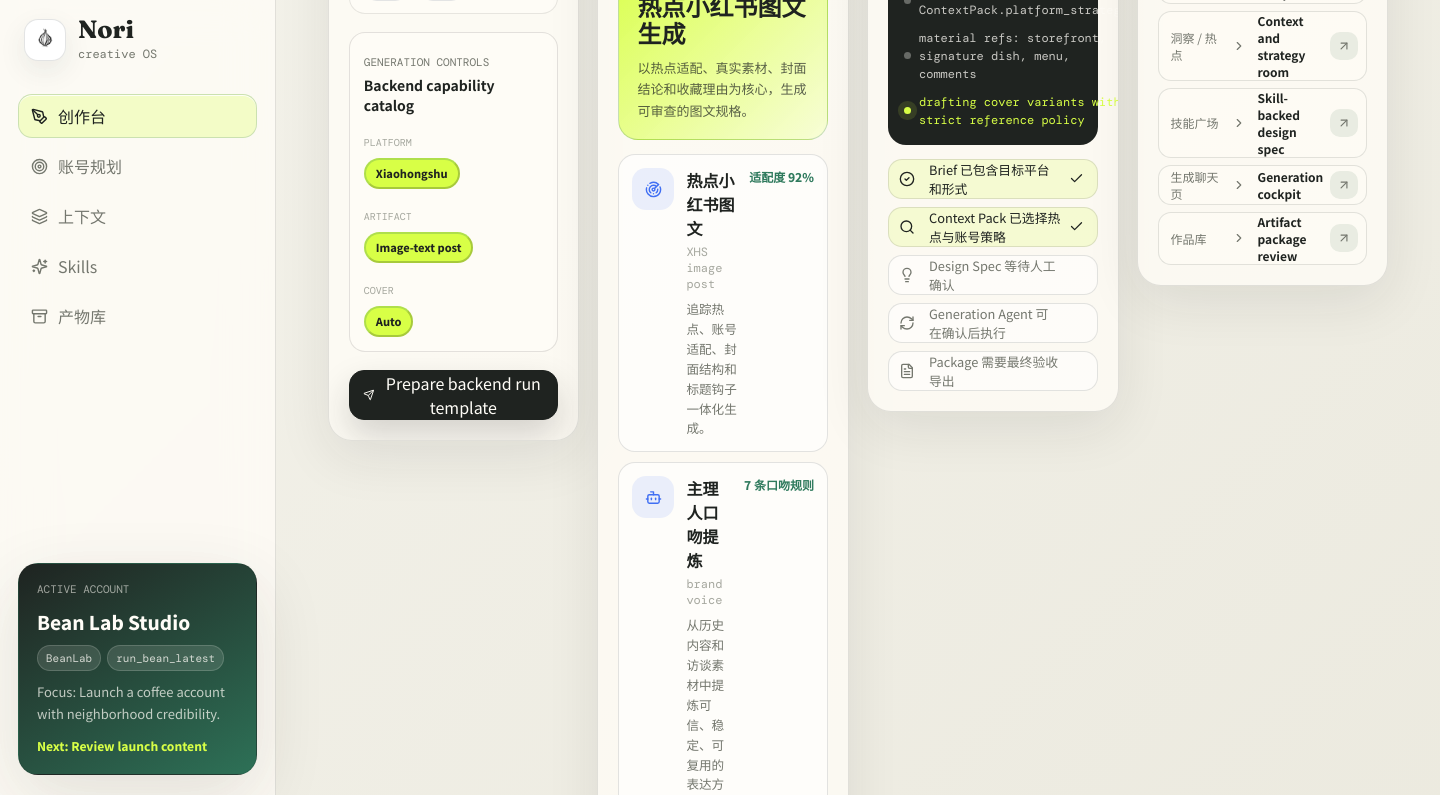
Test: App › uses the backend active account and case when preparing a compose run template
(page scrolled)
Expected: the text "Bean Lab Studio" is shown, [37,608,190,635]
What coordinates should you click on to do the following:
click the button "Prepare backend run template"
I would click on:
 (454, 395)
Its box is [349,370,558,420].
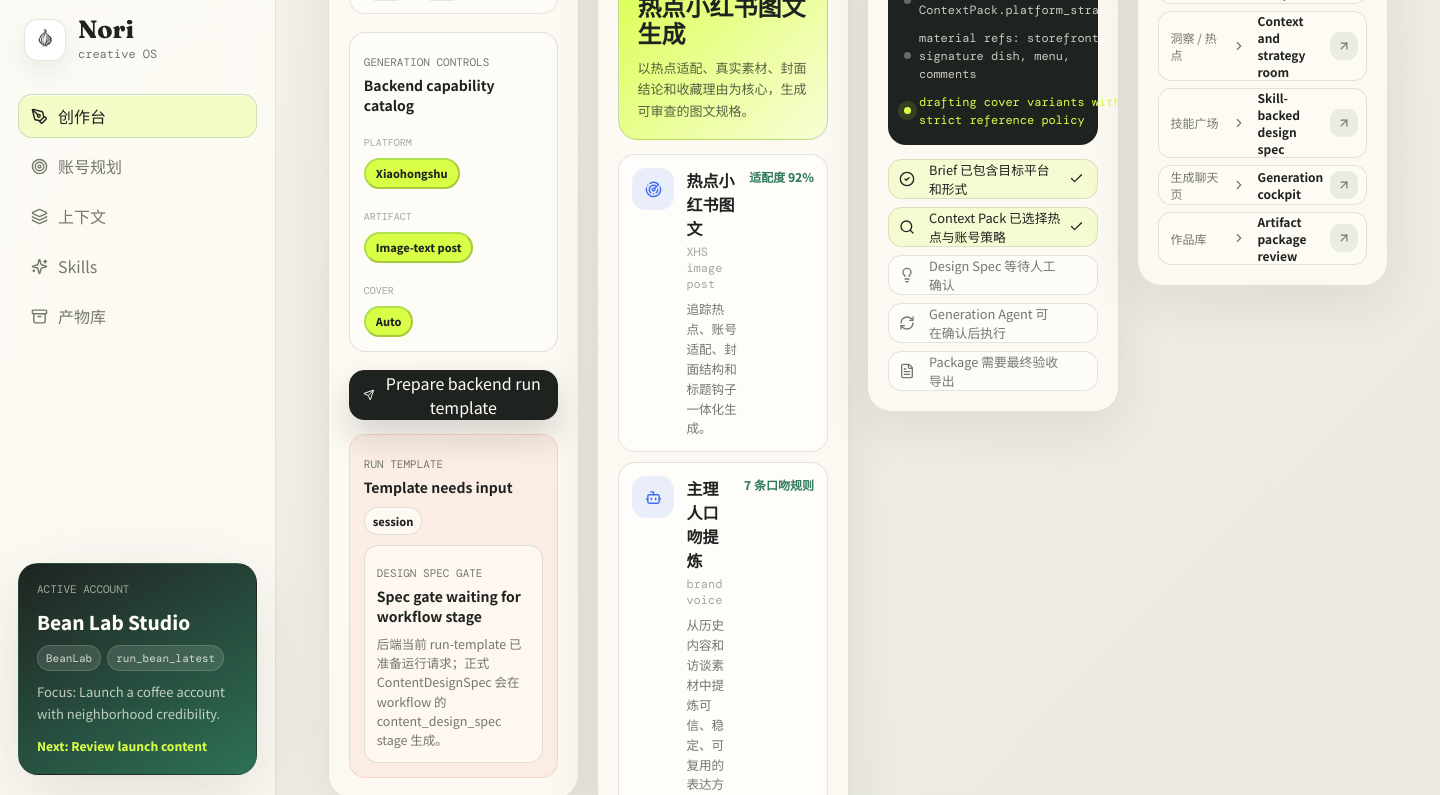
Expected: the text "BeanLab" is shown, [37,645,101,671]
Result: the text "Template needs input" is shown at [364,477,513,497]
